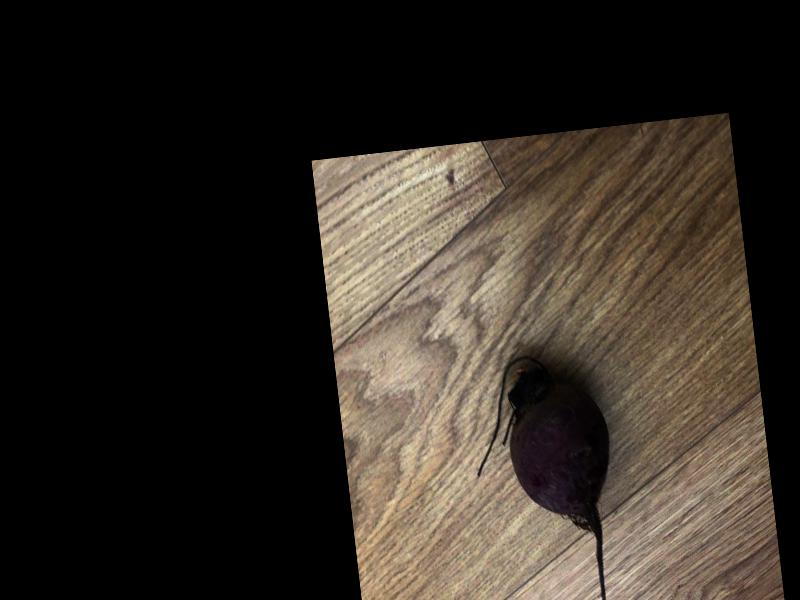Beet: (465, 348, 633, 600)
